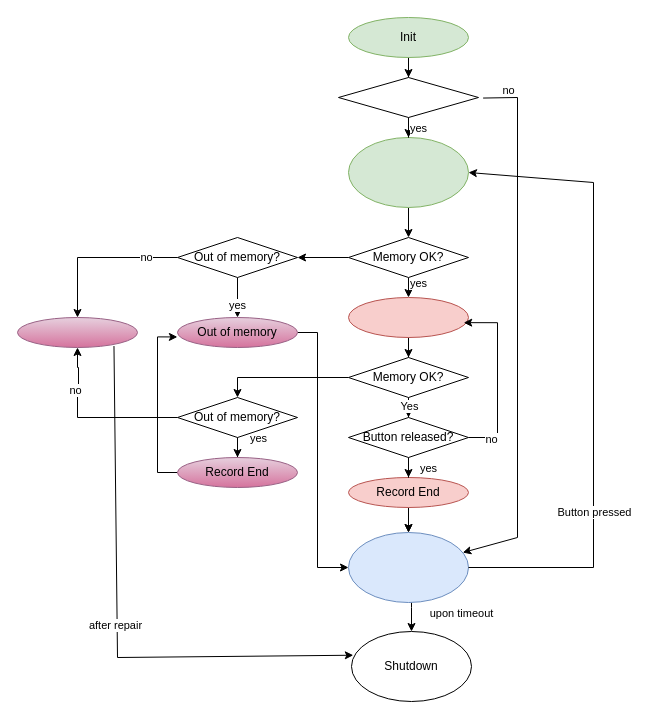
This 648x719 diagram has some shape labels left out. Each missing label, with the box of its shape:
BLE Operation: (348, 532, 468, 602)
Button pressed?: (338, 76, 478, 118)
Memory is corrupt: (16, 316, 138, 348)
Record Prepare: (348, 136, 468, 208)
Recording: (348, 296, 468, 338)
